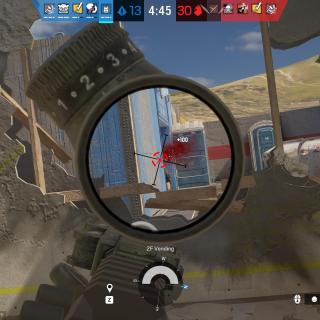Character: (164, 165, 172, 192)
